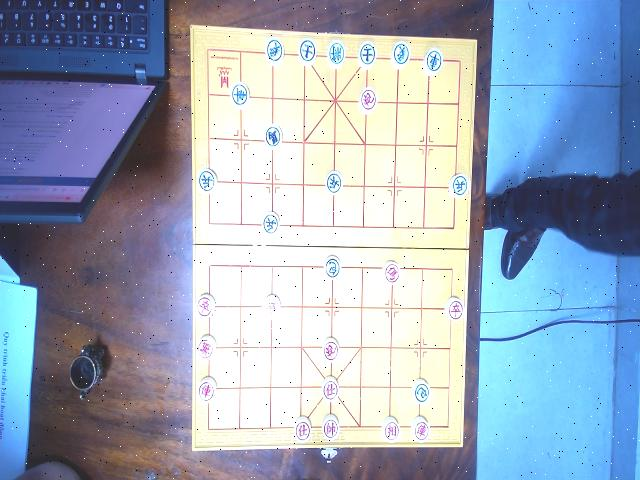piece: (422, 47, 443, 76), (326, 40, 346, 68), (390, 42, 410, 70), (265, 37, 285, 65), (358, 40, 378, 68), (230, 81, 250, 109), (358, 86, 378, 114), (448, 172, 469, 198), (197, 168, 217, 194), (195, 293, 215, 319), (444, 296, 464, 322), (196, 378, 216, 404), (196, 336, 216, 362), (410, 416, 430, 442), (381, 260, 401, 286), (411, 378, 431, 404), (298, 38, 316, 66), (322, 414, 340, 442), (294, 416, 312, 444), (322, 337, 340, 365), (381, 416, 400, 442), (325, 169, 343, 196), (264, 123, 282, 150), (321, 376, 339, 402), (263, 294, 281, 318), (324, 254, 342, 278), (263, 210, 280, 235)
